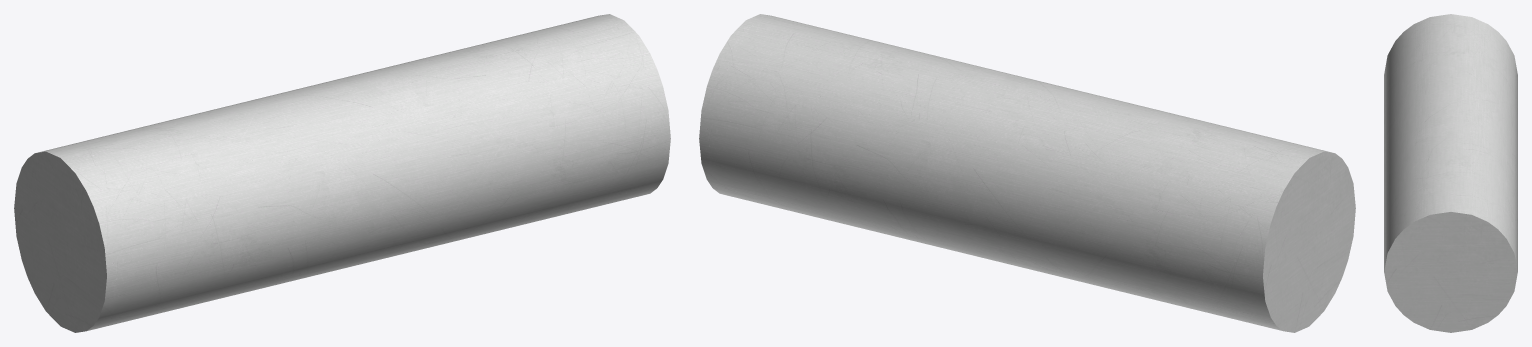
The model's file is hyperspaceradar.obj.
3 renders of one model, left to right at view 1: azimuth 30°, elevation 25°; view 2: azimuth 150°, elevation 25°; view 3: azimuth 270°, elevation 25°, orthographic. The views are drawn at different scales.
Visible parts, largest first — view 1: Hyperspaceradar1; view 2: Hyperspaceradar1; view 3: Hyperspaceradar1.
Part boxes in pixels (x1,y1,x2,y2): Hyperspaceradar1: (14,14,670,332); Hyperspaceradar1: (699,14,1355,332); Hyperspaceradar1: (1384,14,1517,332).
Size of the model in its own units: 7 by 2 by 2.
1 material, 1 textured.
